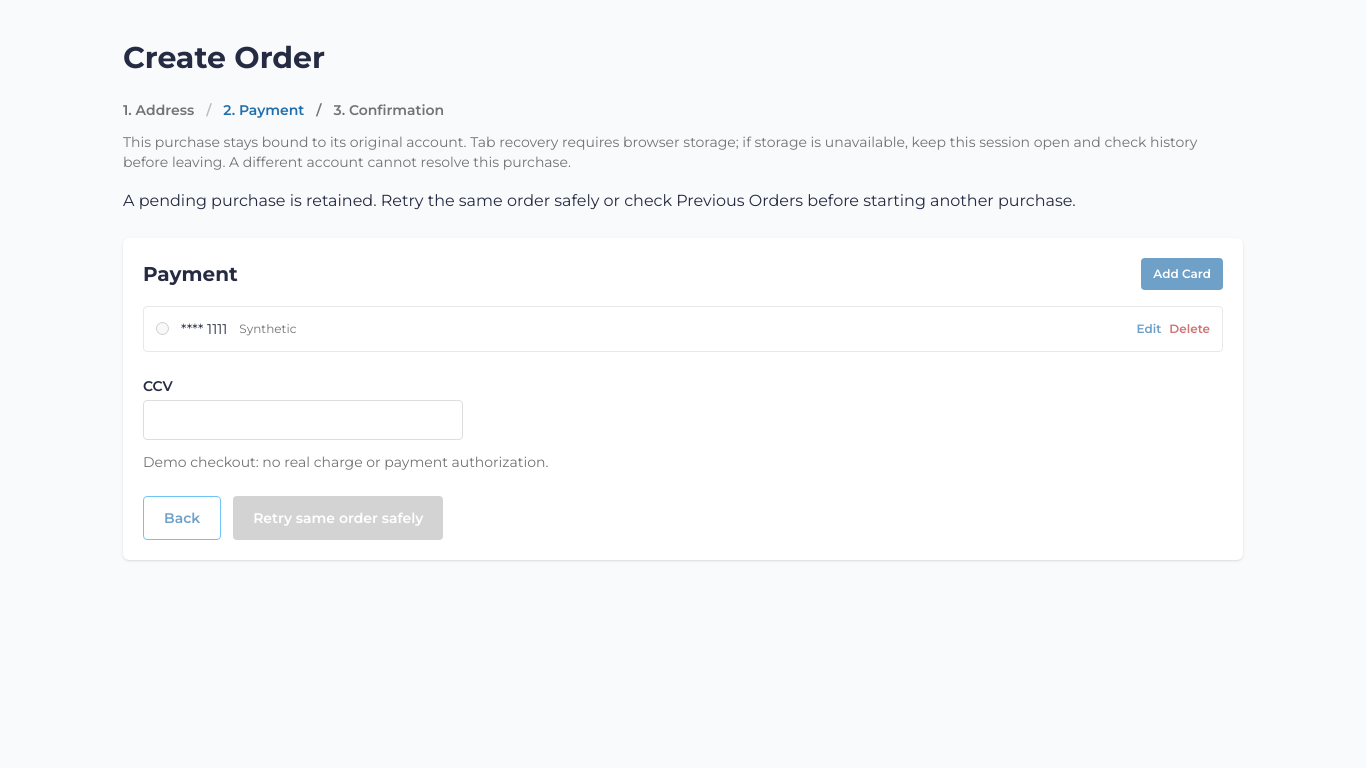
Test: recovers the same pending order after a tab reload without consuming a new cart
Expected: the text "pending purchase is retained" is shown, [123, 191, 1076, 210]
Type "123" into the password field labelled "CCV".
click(303, 420); type("123")  # box [143, 400, 463, 440]
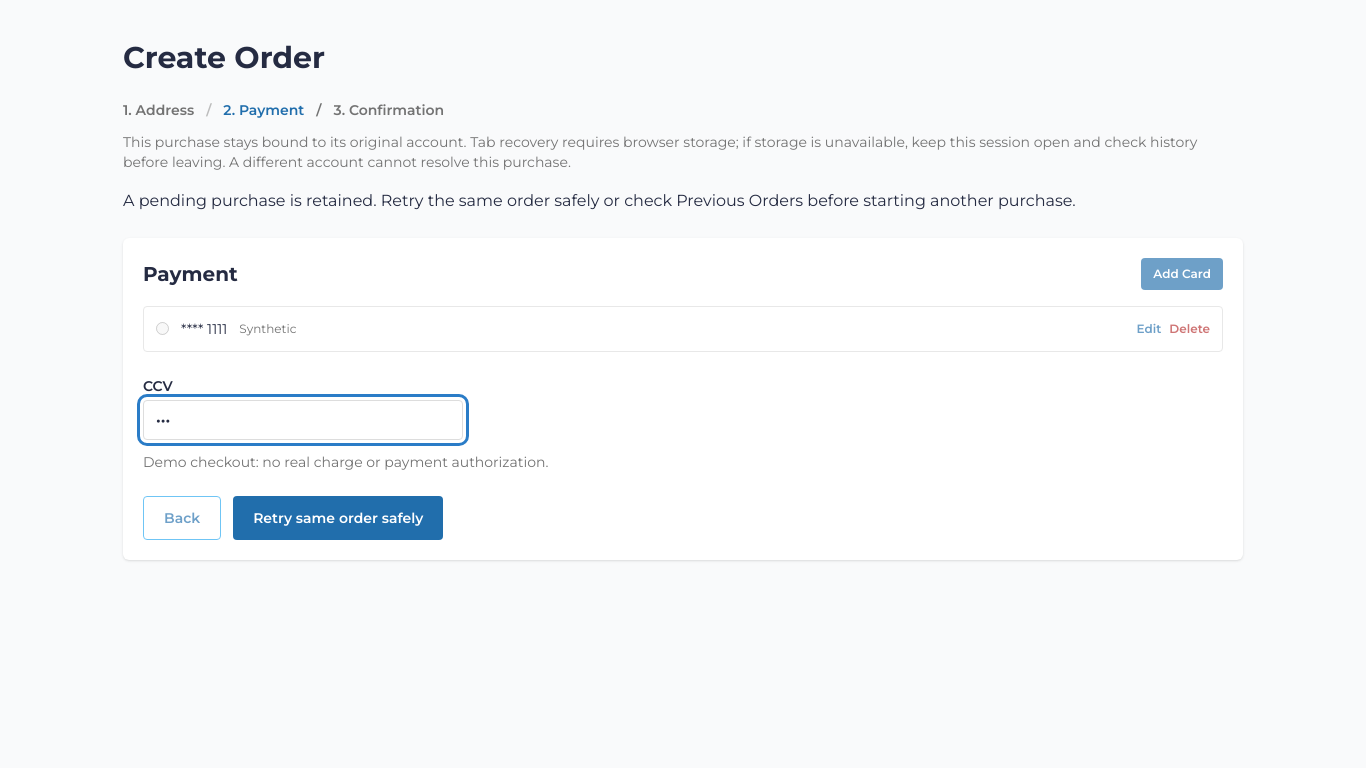
Click the button "Retry same order safely".
click(338, 518)  # box [233, 496, 443, 540]
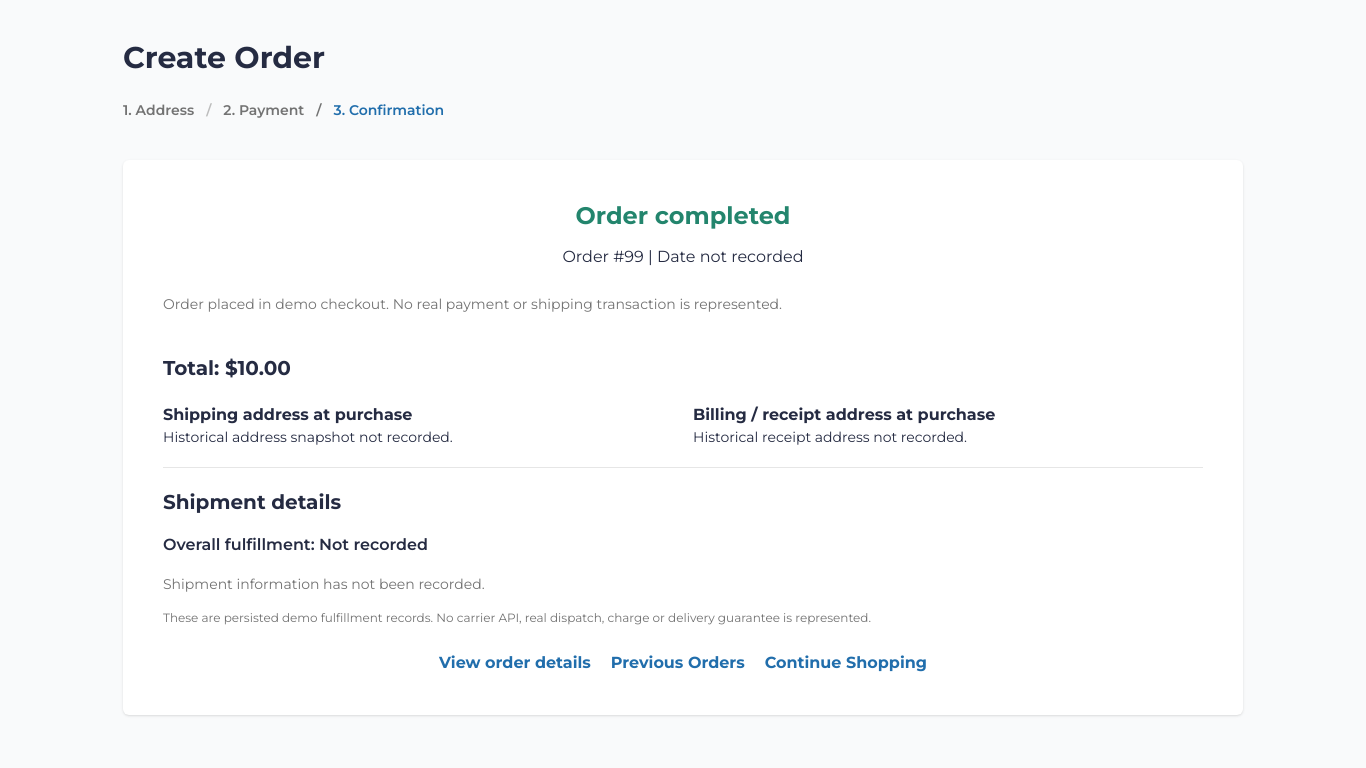
Result: the heading "Order completed" is shown at [576, 201, 790, 230]
